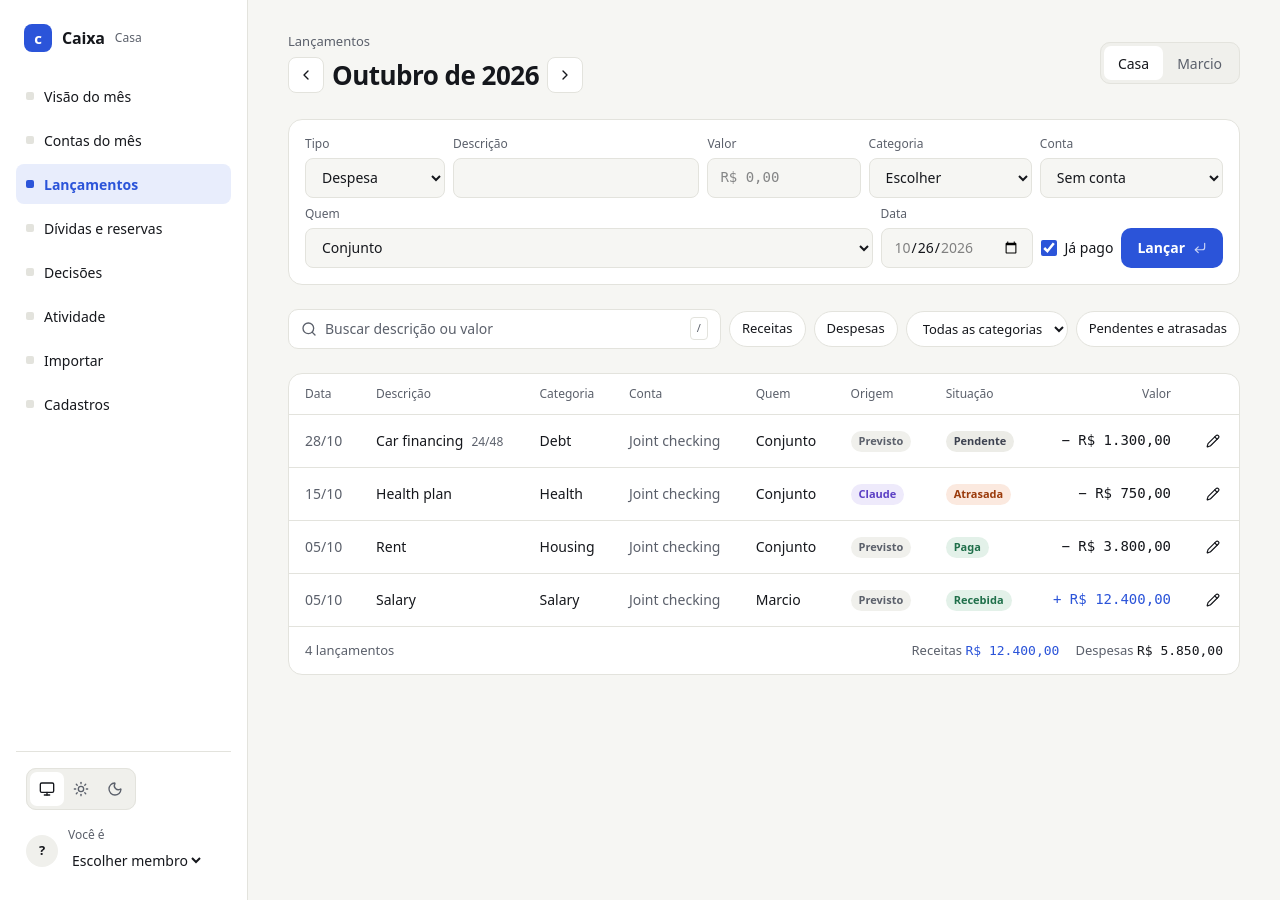
Scenario: focuses search with the slash key and filters by text and chips
Expected: the table is shown, [289,374,1239,626]
Type keys "/"
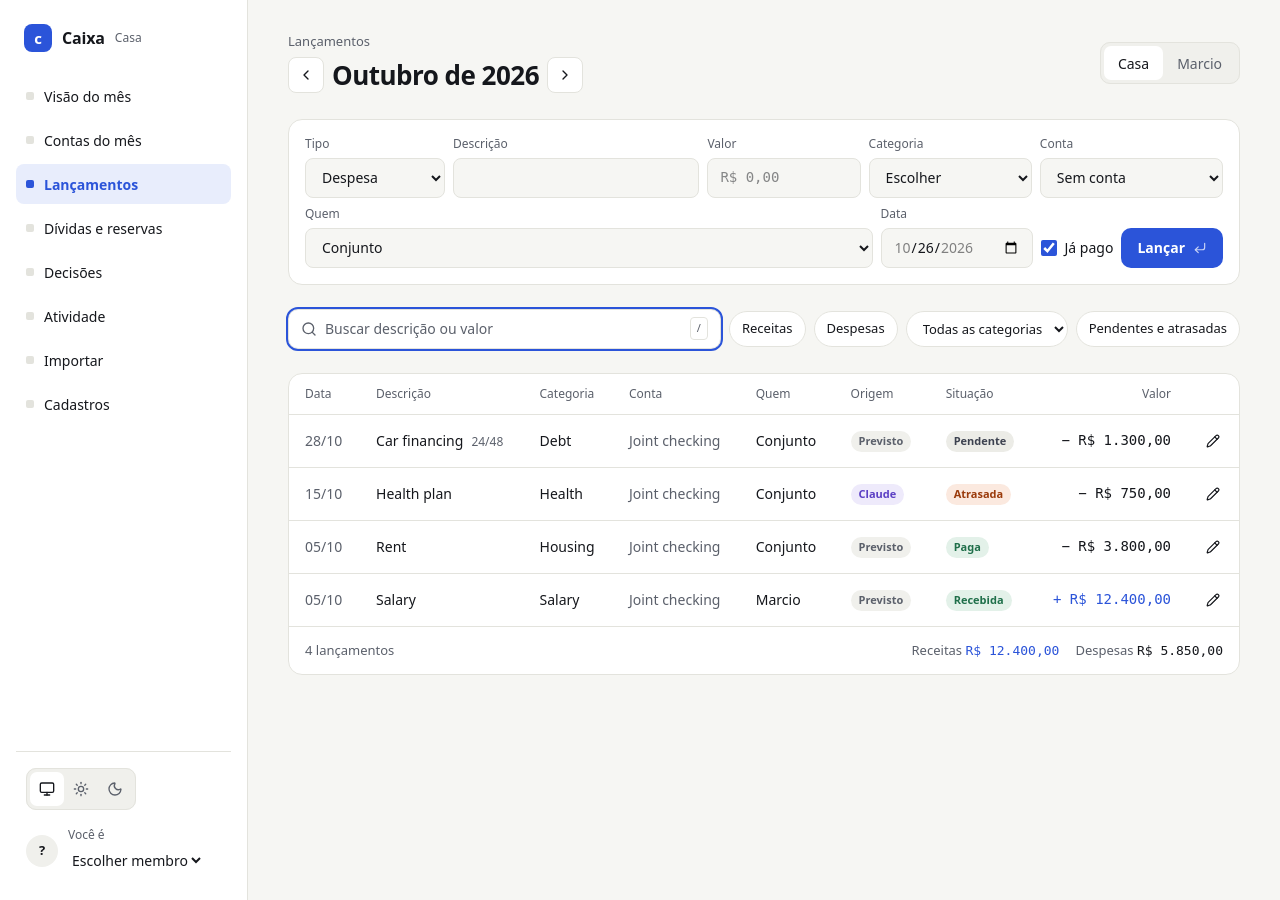
Type keys "rent"
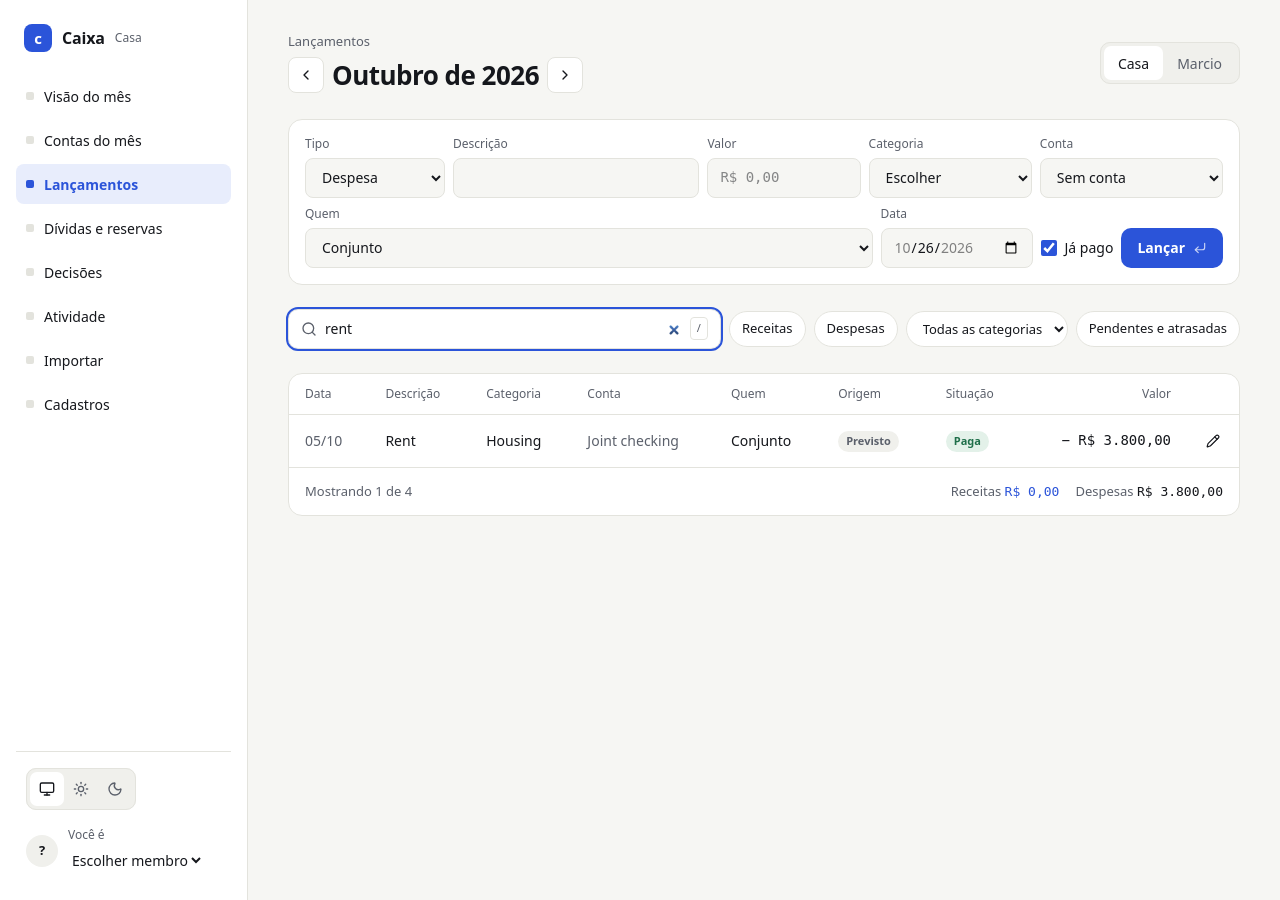
Now the text "Mostrando 1 de 4" is shown, box [305,482,412,501]
Press Escape
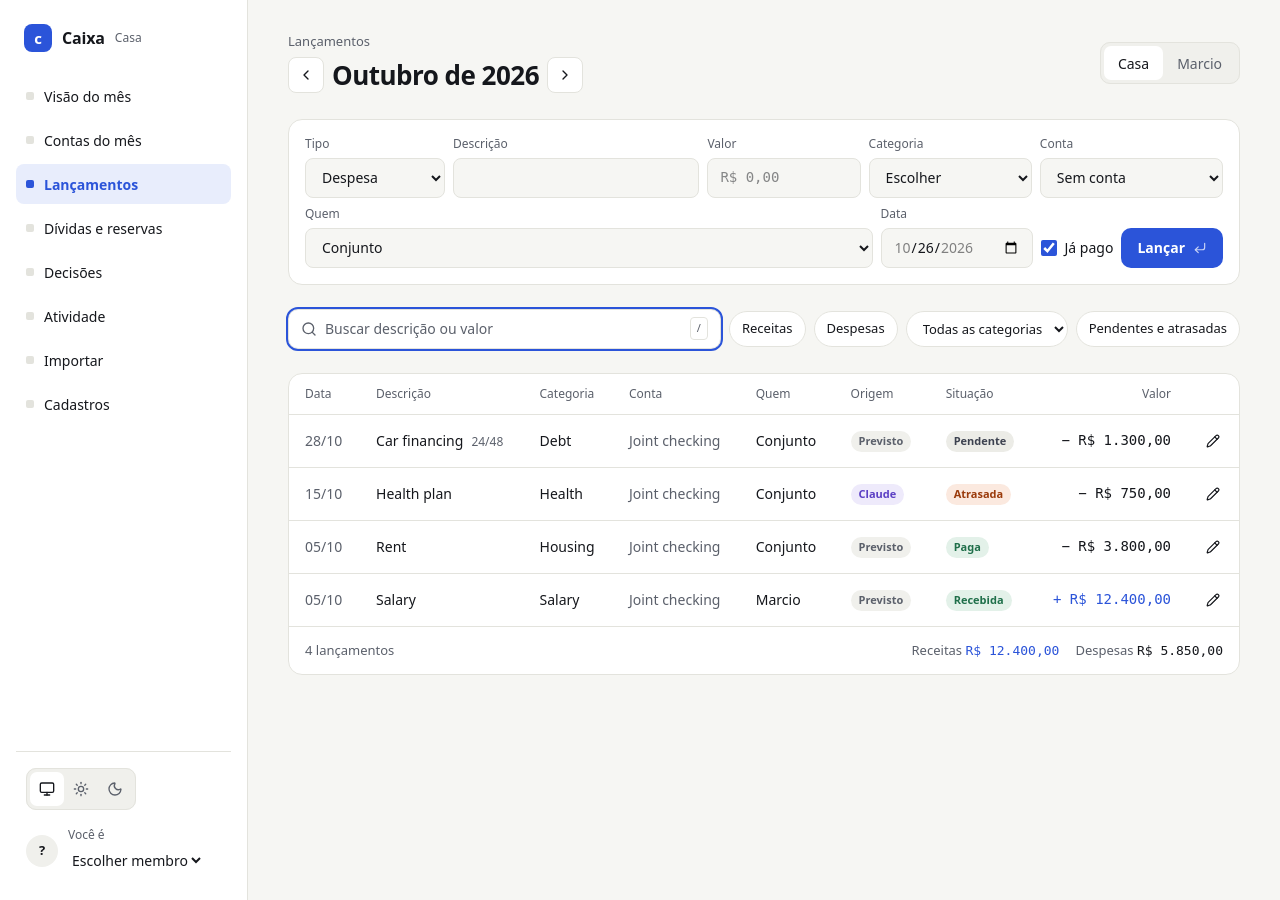
Click the button "Despesas": (856, 328) [814,310,898,346]
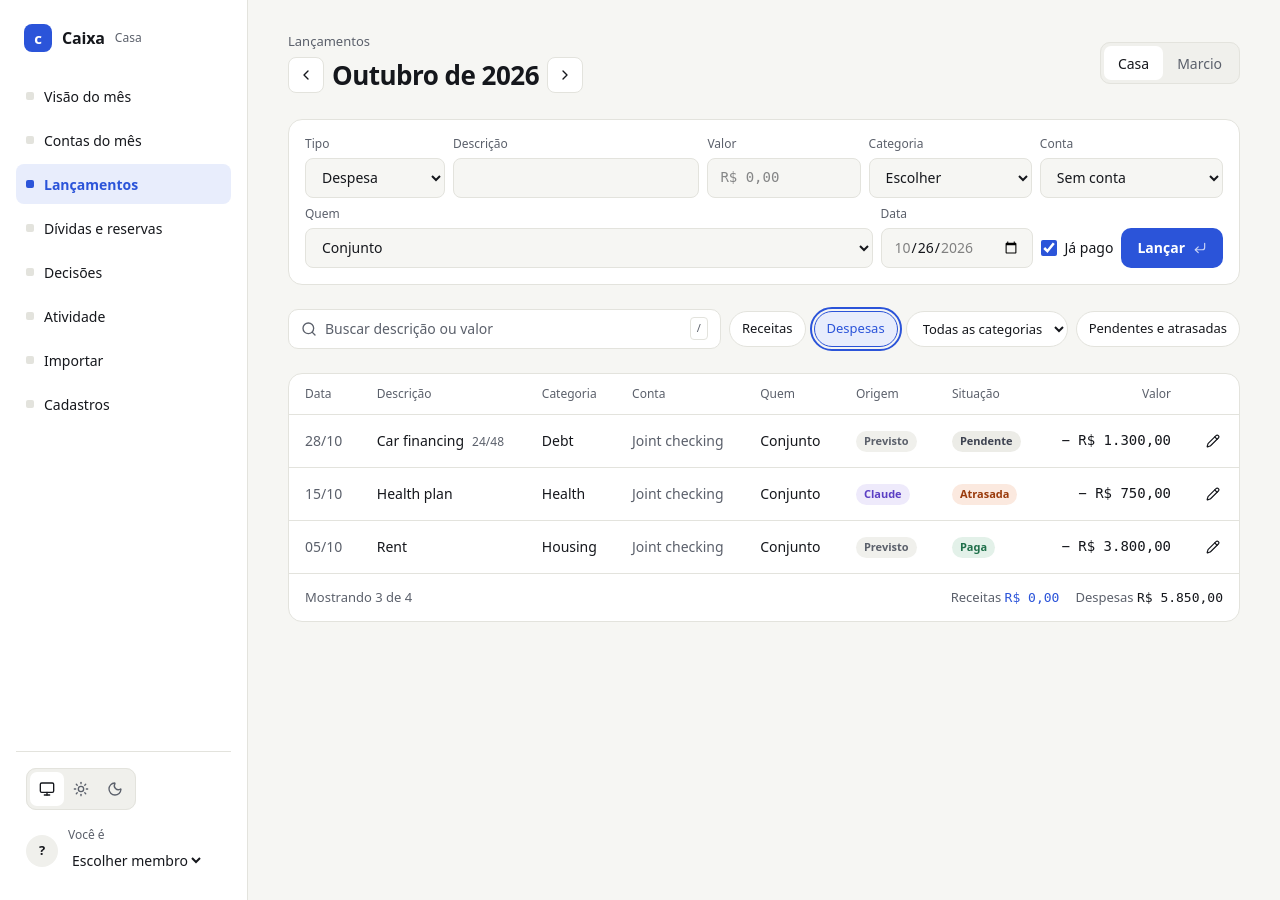
Click the button "Pendentes e atrasadas": (1158, 328) [1076,310,1240,346]
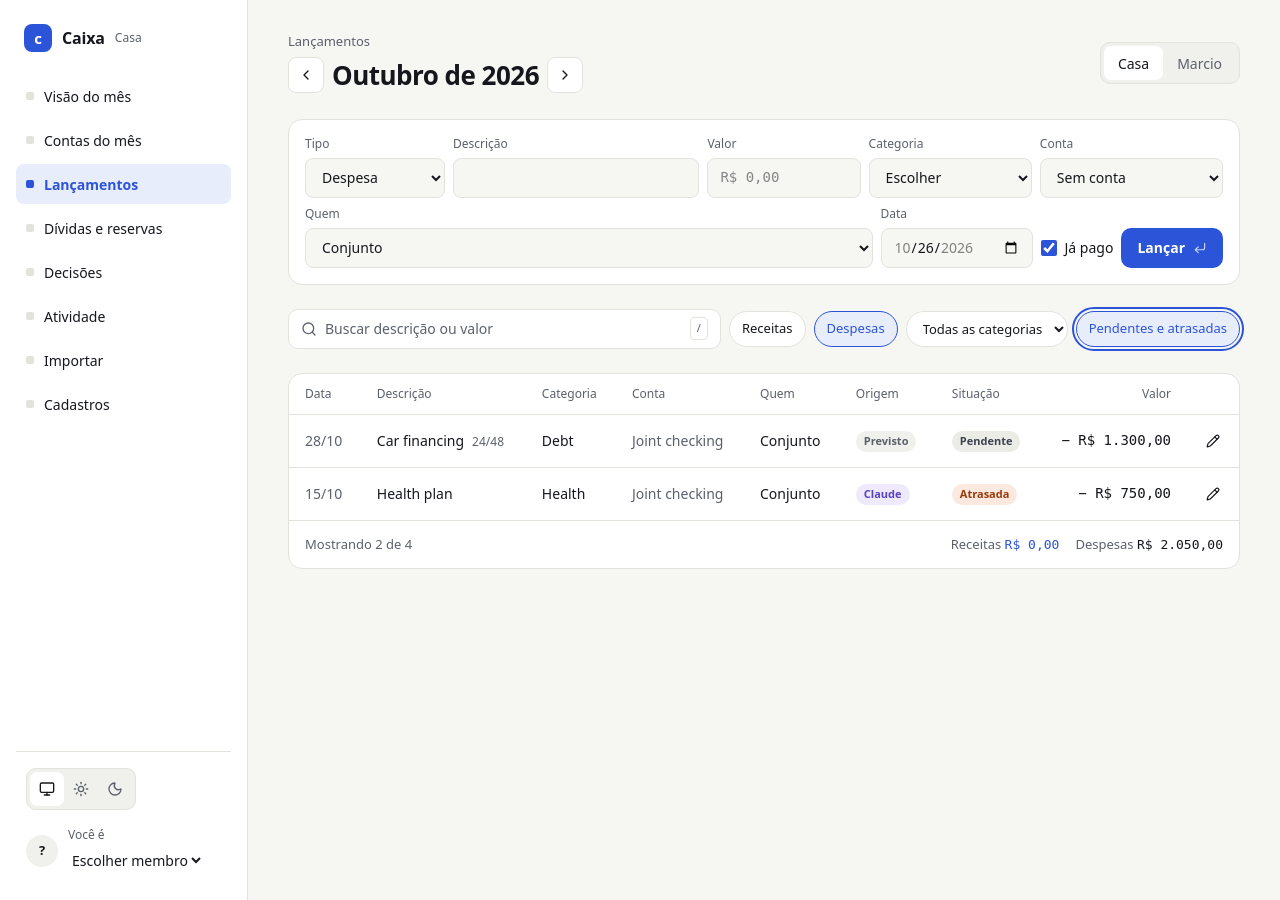
Select "Health" in the dropdown named "Filtrar por categoria": (987, 328) [906,310,1068,346]
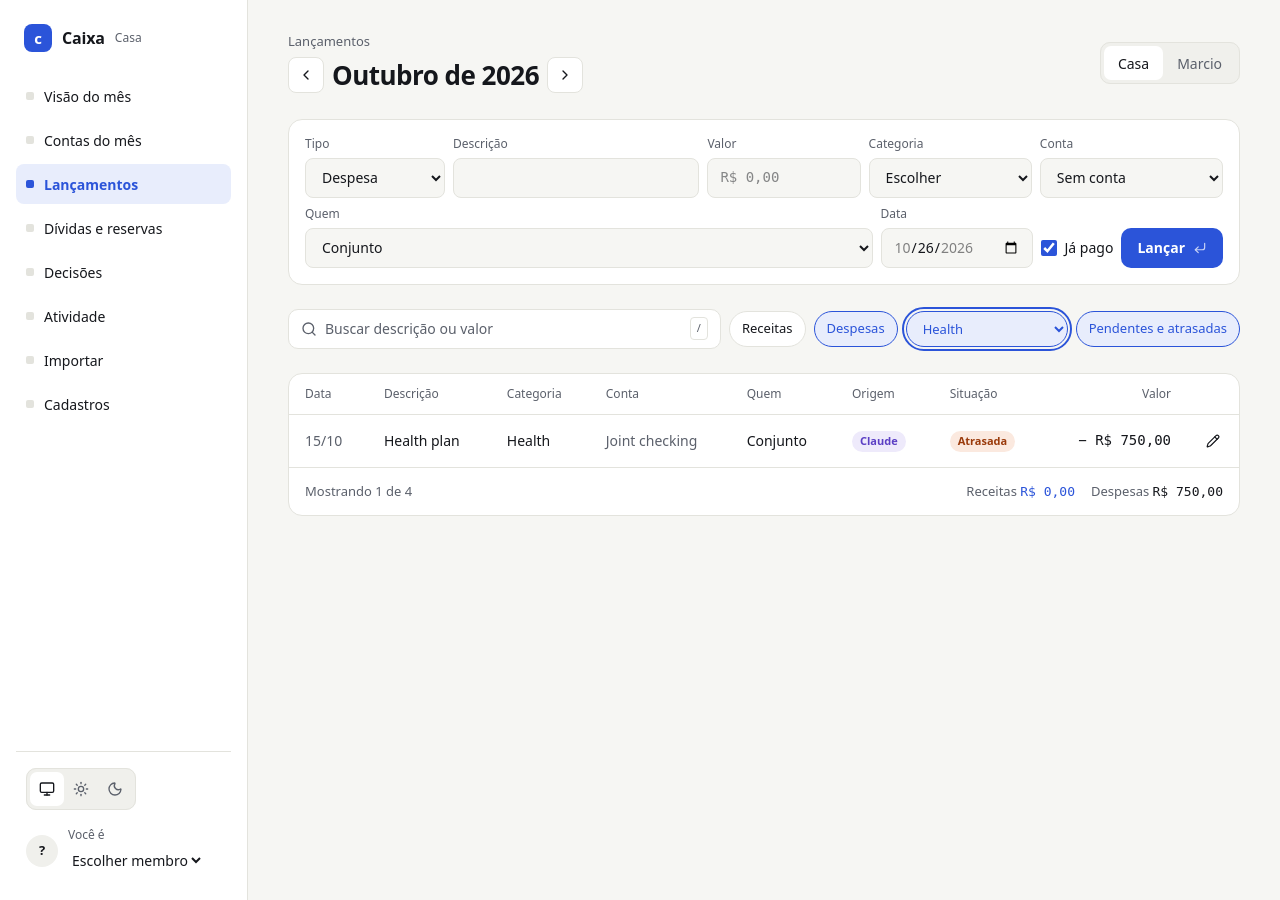
Now the text "R$ 750,00" is shown, box [1152,484,1223,498]
